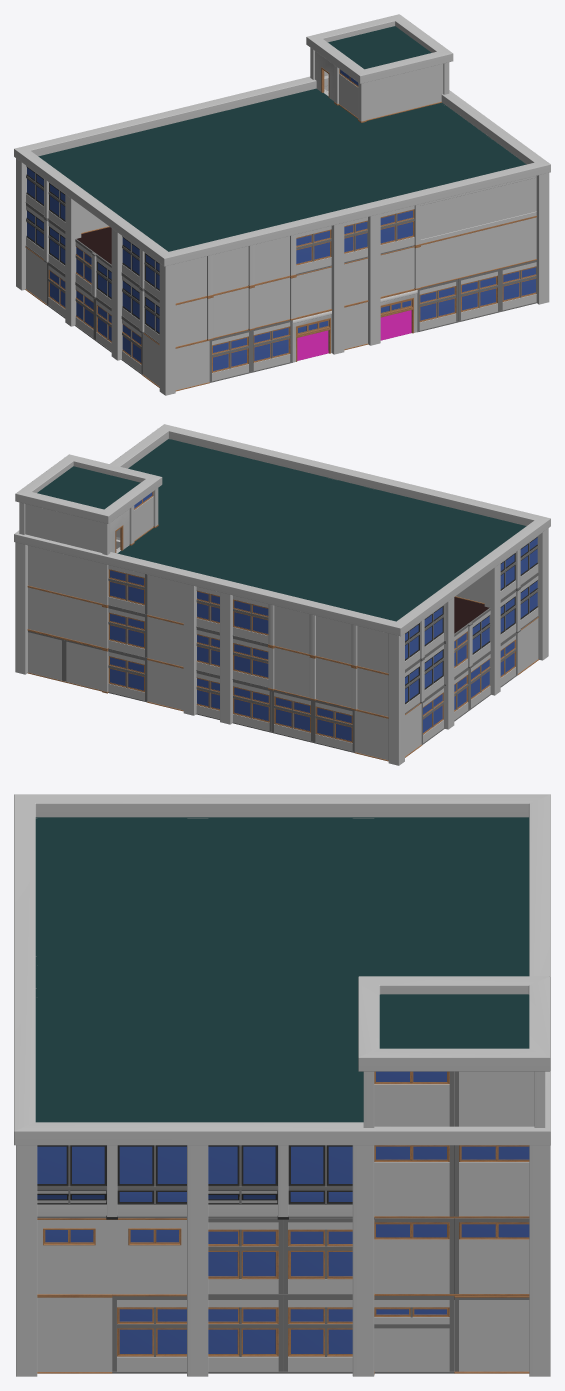
File: SM_cantine_building.fbx
3 views of the same model, one above another, from view 1: azimuth 30°, elevation 25°; view 2: azimuth 150°, elevation 25°; view 3: azimuth 270°, elevation 25° (orthographic). The views are drawn at different scales.
Parts seen in each view (by area): view 1: CantineBuilding; view 2: CantineBuilding; view 3: CantineBuilding.
Boxes of the visible parts, x1=… form: CantineBuilding: x1=14, y1=14, x2=550, y2=395; CantineBuilding: x1=14, y1=424, x2=550, y2=765; CantineBuilding: x1=14, y1=794, x2=550, y2=1376.
Size of the model in its own units: 1468 by 649 by 988.
